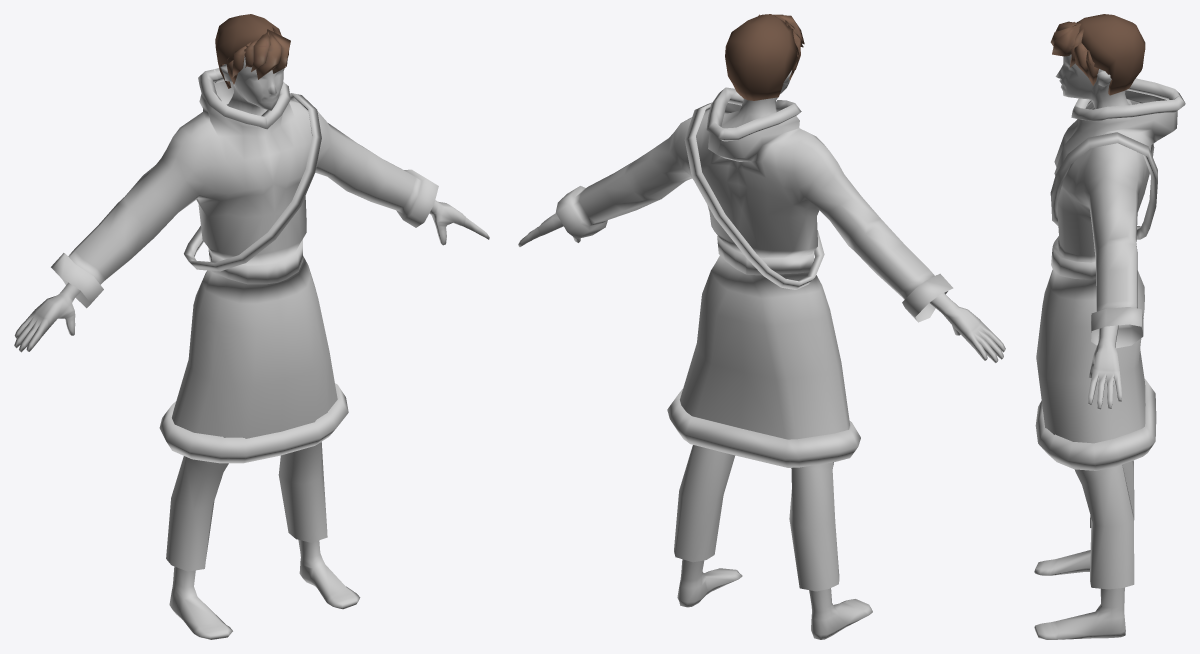
File: char_01.fbx
3 renders of one model, left to right at view 1: azimuth 30°, elevation 25°; view 2: azimuth 150°, elevation 25°; view 3: azimuth 270°, elevation 25°, orthographic. The views are drawn at different scales.
Visible parts, largest first — view 1: human_male_body_default.001, human_male_body_default, Icosphere.001, BézierCircle; view 2: human_male_body_default.001, human_male_body_default, Icosphere.001, BézierCircle; view 3: human_male_body_default.001, human_male_body_default, Icosphere.001, BézierCircle.
Boxes of the visible parts, <box> form: human_male_body_default.001: <box>51,68,438,571</box>; human_male_body_default: <box>14,56,489,639</box>; Icosphere.001: <box>215,14,290,88</box>; BézierCircle: <box>184,93,321,271</box>; human_male_body_default.001: <box>555,87,953,591</box>; human_male_body_default: <box>518,70,1005,639</box>; Icosphere.001: <box>725,14,804,100</box>; BézierCircle: <box>684,102,824,289</box>; human_male_body_default.001: <box>1035,78,1185,589</box>; human_male_body_default: <box>1034,54,1132,639</box>; Icosphere.001: <box>1050,14,1145,95</box>; BézierCircle: <box>1050,132,1157,239</box>.
Bounding box in the file's own units: 113 × 134 × 31.42.
